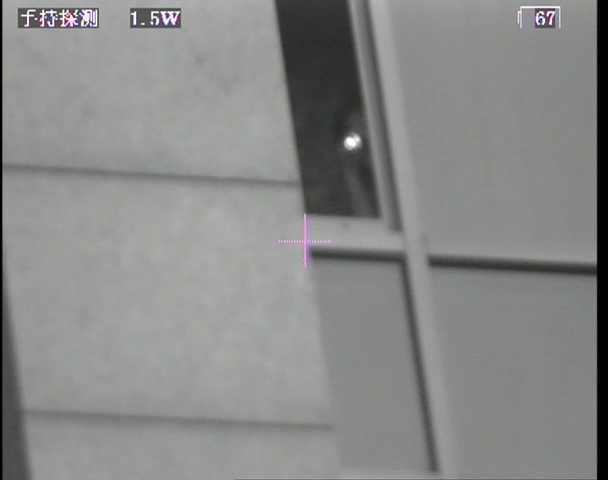my: (343, 133, 362, 152)
